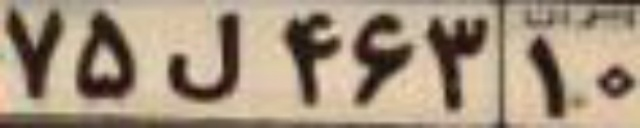0: (587, 66, 634, 98)
1: (523, 34, 574, 119)
3: (424, 15, 491, 112)
4: (279, 11, 341, 107)
5: (69, 6, 136, 99)
6: (348, 10, 415, 107)
7: (2, 6, 65, 99)
lam: (164, 10, 248, 102)
